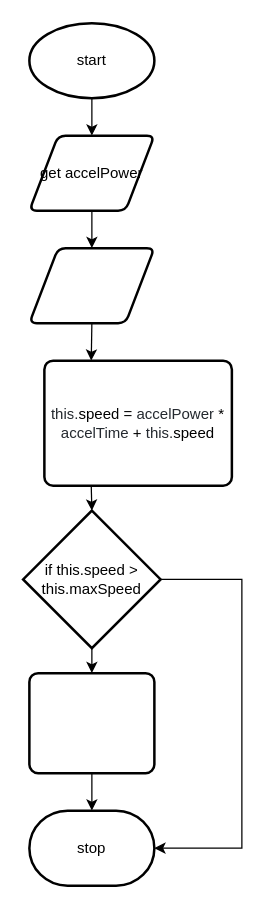
Image size: 274x908. Some labels were removed from this diagram. Here are the shapes that lost their labels. From the top down, the centre of each, then its label:
[91,285]: get accelTime
[91,722]: this.speed = this.maxSpeed
